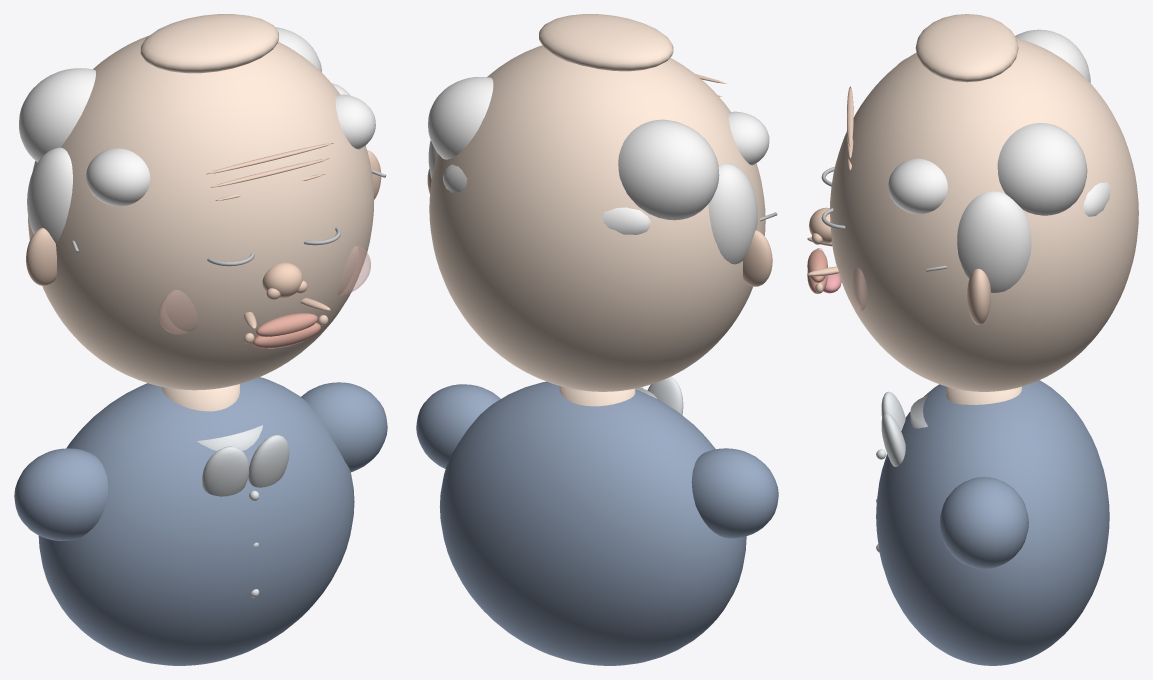
Rendered from lolopat.glb.
3 views of the same model, side by side, from view 1: azimuth 30°, elevation 25°; view 2: azimuth 150°, elevation 25°; view 3: azimuth 270°, elevation 25° (orthographic). The views are drawn at different scales.
Visible parts, largest first — view 1: Head, Torso, Shoulder_L, Scalp_Shine, Shoulder_R, Hair_BackLeft, Hair_SideLeft, Hair_TempleTuft_L, Collar_L, Collar_R, Hair_TempleTuft_R, Ear_L (+10 smaller); view 2: Head, Torso, Hair_BackLeft, Shoulder_L, Scalp_Shine, Shoulder_R, Hair_BackRight, Hair_SideLeft, Hair_Nape, Hair_TempleTuft_L, Ear_L, Neck (+1 smaller); view 3: Head, Torso, Hair_BackRight, Shoulder_R, Hair_SideRight, Scalp_Shine, Hair_TempleTuft_R, Hair_BackLeft, Ear_R, Neck, Collar_R, Hair_Nape (+3 smaller).
Part boxes in pixels (left/top/right/bottom): Head: left=28, top=35, right=373, bottom=390; Torso: left=38, top=377, right=354, bottom=665; Shoulder_L: left=14, top=448, right=108, bottom=540; Scalp_Shine: left=140, top=14, right=278, bottom=73; Shoulder_R: left=301, top=382, right=387, bottom=472; Hair_BackLeft: left=19, top=68, right=95, bottom=162; Hair_SideLeft: left=27, top=147, right=72, bottom=243; Hair_TempleTuft_L: left=86, top=148, right=150, bottom=206; Collar_L: left=202, top=446, right=248, bottom=496; Collar_R: left=248, top=435, right=289, bottom=487; Hair_TempleTuft_R: left=335, top=94, right=375, bottom=149; Ear_L: left=26, top=227, right=56, bottom=285; Head: left=429, top=45, right=765, bottom=391; Torso: left=439, top=381, right=746, bottom=665; Hair_BackLeft: left=618, top=119, right=719, bottom=220; Shoulder_L: left=691, top=448, right=778, bottom=538; Scalp_Shine: left=539, top=14, right=673, bottom=71; Shoulder_R: left=416, top=384, right=500, bottom=468; Hair_BackRight: left=428, top=77, right=493, bottom=159; Hair_SideLeft: left=708, top=163, right=757, bottom=264; Hair_Nape: left=443, top=164, right=650, bottom=234; Hair_TempleTuft_L: left=728, top=111, right=769, bottom=165; Ear_L: left=743, top=230, right=772, bottom=286; Neck: left=559, top=386, right=635, bottom=406; Head: left=829, top=38, right=1138, bottom=391; Torso: left=876, top=380, right=1109, bottom=665; Hair_BackRight: left=997, top=123, right=1087, bottom=215; Shoulder_R: left=939, top=477, right=1028, bottom=568; Hair_SideRight: left=957, top=191, right=1031, bottom=292; Scalp_Shine: left=915, top=14, right=1018, bottom=82; Hair_TempleTuft_R: left=888, top=158, right=947, bottom=214; Hair_BackLeft: left=1015, top=29, right=1090, bottom=82; Ear_R: left=967, top=268, right=990, bottom=324; Neck: left=946, top=386, right=1021, bottom=404; Collar_R: left=881, top=413, right=905, bottom=466; Hair_Nape: left=1083, top=182, right=1110, bottom=216.
Bounding box in the file's own units: 2.36 × 3.96 × 1.93.
